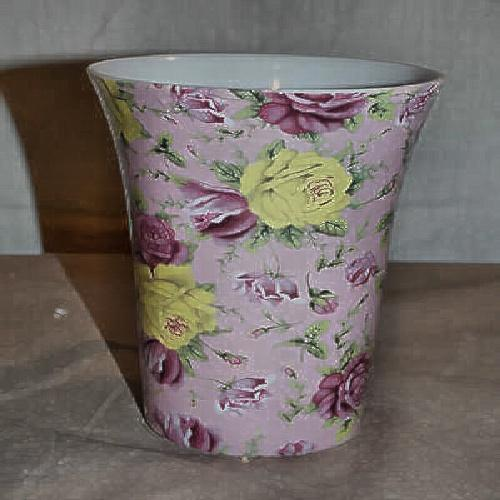mug: (97, 43, 415, 449)
